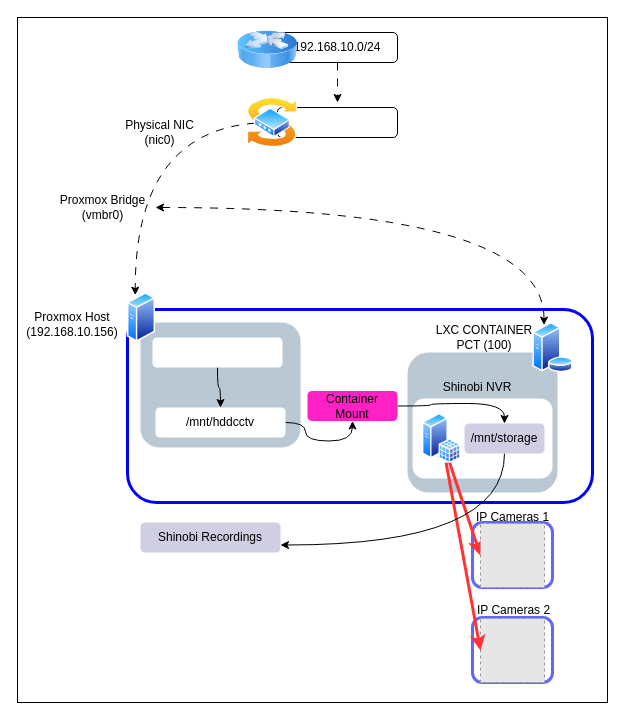
This 625x720 diagram has some shape labels left out. Grey dashed boxes stand in for pictures. Here are the shapes that lost their labels. From the top down, the centre of each, then its label:
[337,122]: Network Switch
[217,352]: Dedicated HDD 4 TB / ext4
